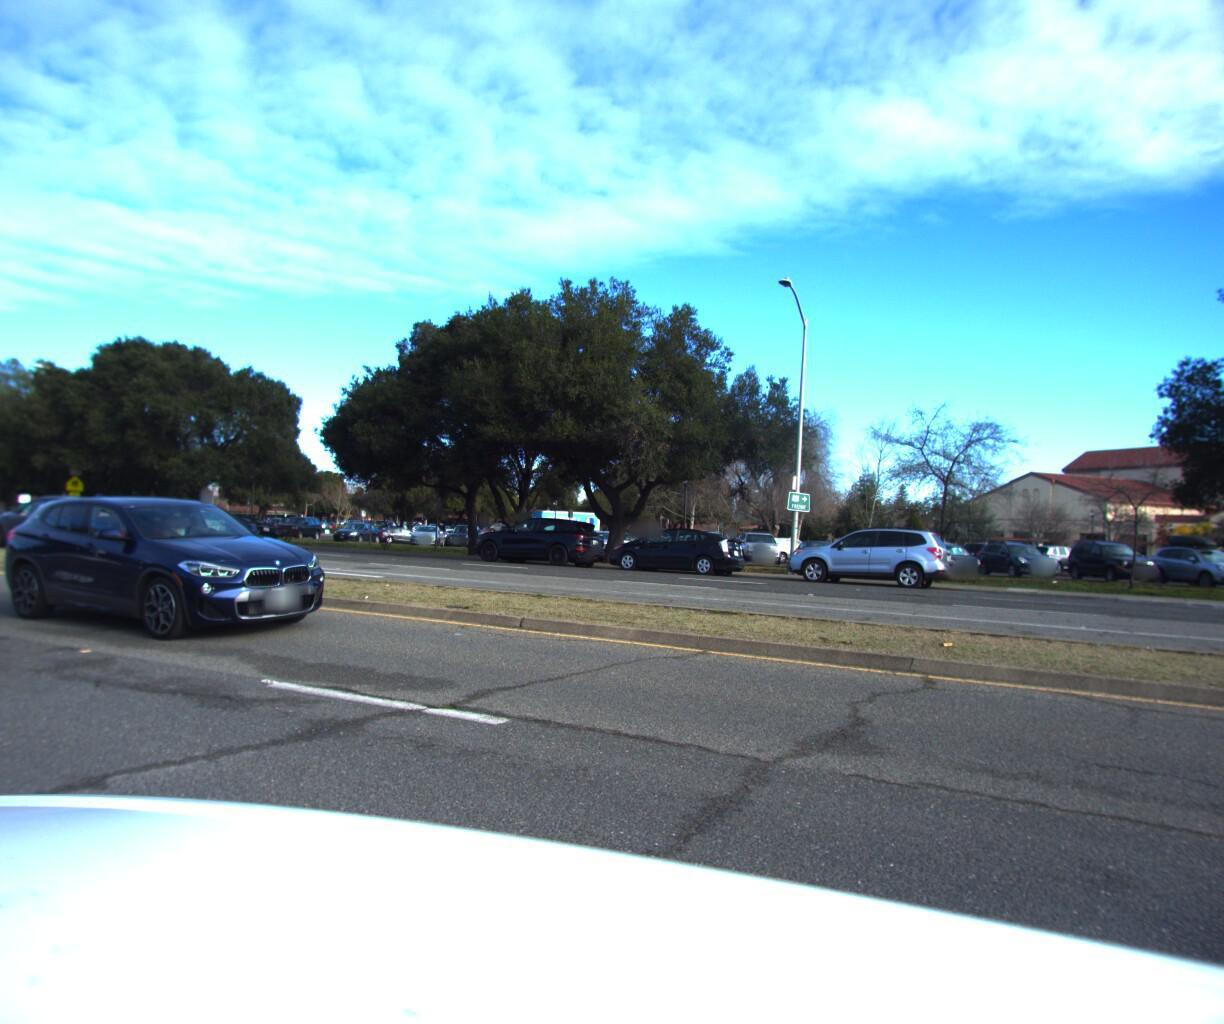car: (0, 482, 335, 645), (776, 517, 959, 585), (0, 483, 166, 551), (463, 510, 612, 564), (601, 520, 751, 571), (0, 488, 20, 720), (170, 506, 280, 543)
